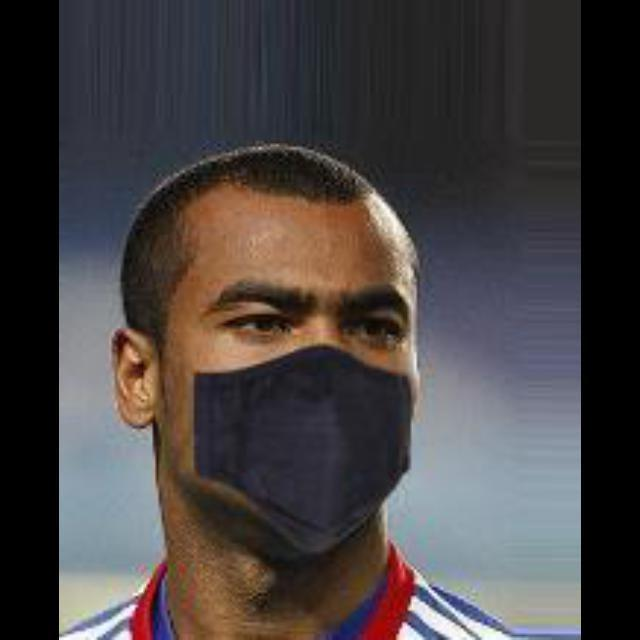suspicion: (99, 146, 483, 542)
